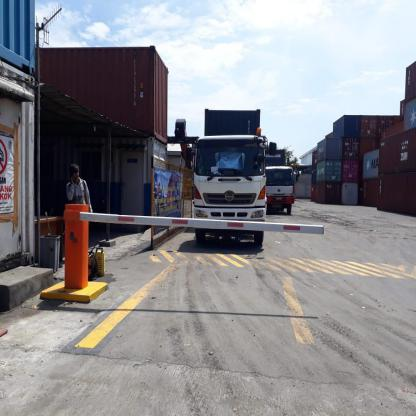truck: (191, 134, 271, 247)
